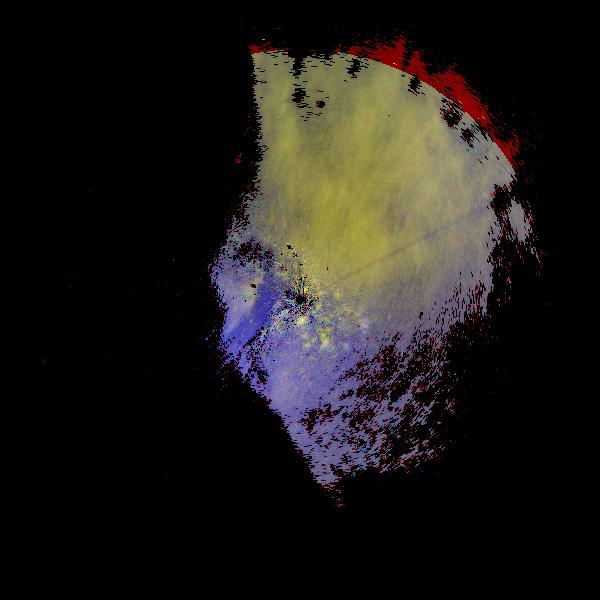roost: (338, 293, 380, 335), (308, 324, 341, 357)
